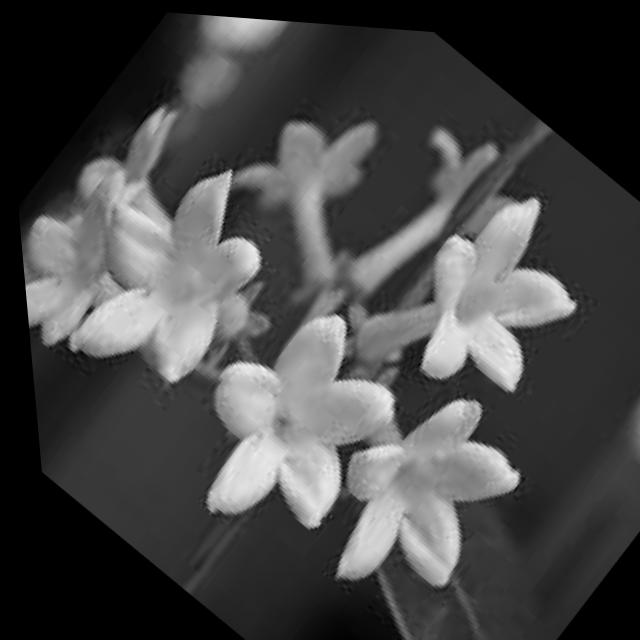Flower: (121, 250, 451, 589), (32, 128, 319, 428), (275, 344, 563, 640), (345, 150, 632, 441), (7, 103, 226, 395), (196, 60, 440, 306)
